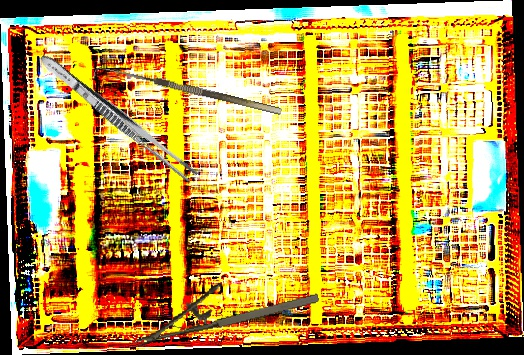Dressing Forceps: (35, 50, 201, 185)
Hook Surgical: (92, 62, 283, 125)
Needle Holder: (124, 263, 321, 348)
